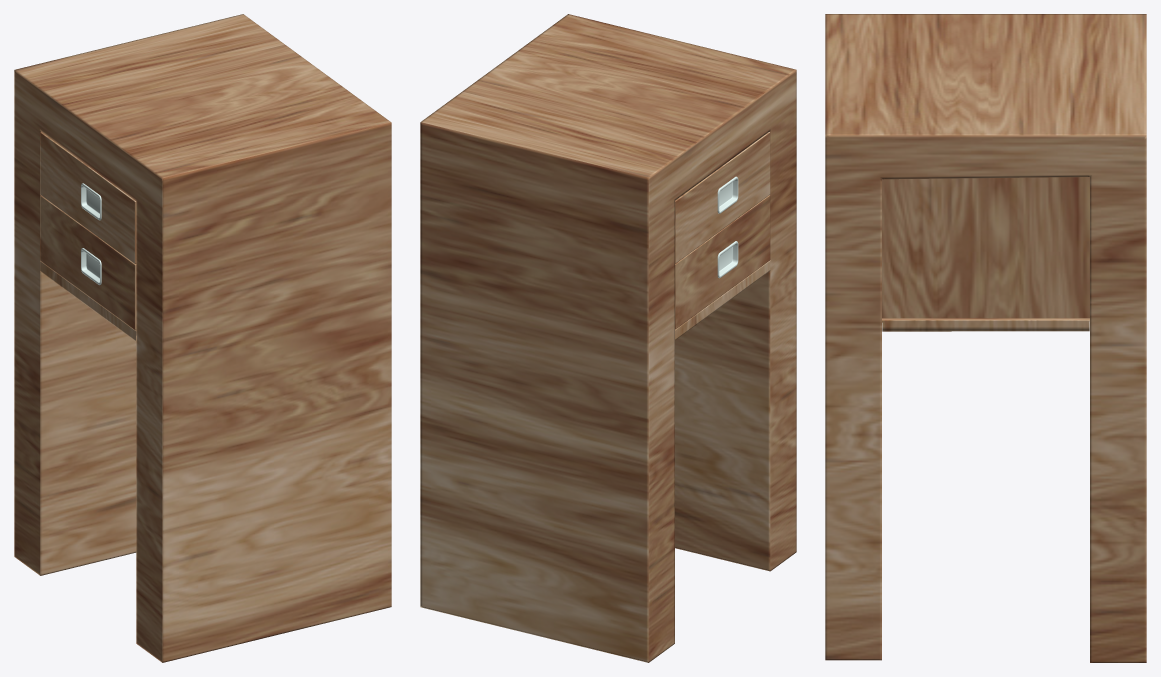
Rendered from drawer_06.obj.
The picture shows the model from 3 angles, left to right: view 1: azimuth 30°, elevation 25°; view 2: azimuth 150°, elevation 25°; view 3: azimuth 270°, elevation 25°; orthographic projection. The views are drawn at different scales.
Visible parts, largest first — view 1: drawer_06; view 2: drawer_06; view 3: drawer_06.
Boxes of the visible parts, x1,y1,x2,y2 form: drawer_06: (14,14,391,662); drawer_06: (420,14,796,662); drawer_06: (825,14,1146,662).
Size of the model in its own units: 1.5 by 3.02 by 1.67.
